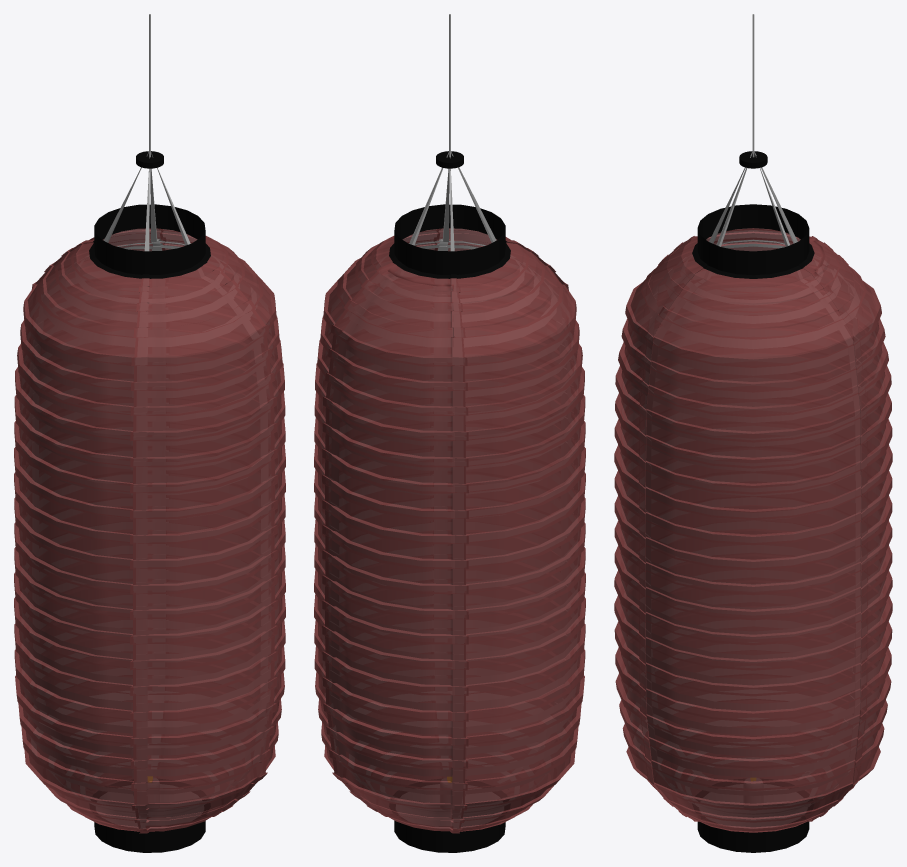
File: latern.fbx
3 renders of one model, left to right at view 1: azimuth 30°, elevation 25°; view 2: azimuth 150°, elevation 25°; view 3: azimuth 270°, elevation 25°, orthographic.
Parts seen in each view (by area): view 1: pCylinder4; view 2: pCylinder4; view 3: pCylinder4.
Part boxes in pixels (<box>): pCylinder4: <box>14,14,285,852</box>; pCylinder4: <box>314,14,585,852</box>; pCylinder4: <box>614,14,892,852</box>.
Size of the model in its own units: 2.25 by 7.31 by 2.26.
